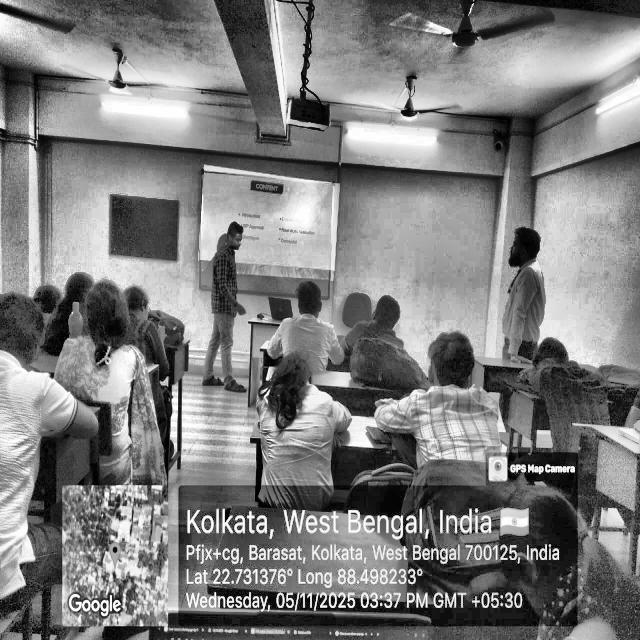Focus: (0, 254, 162, 464), (284, 275, 445, 350), (204, 179, 278, 326), (423, 324, 525, 429), (493, 196, 555, 335)
Not Focus: (266, 344, 359, 507)
